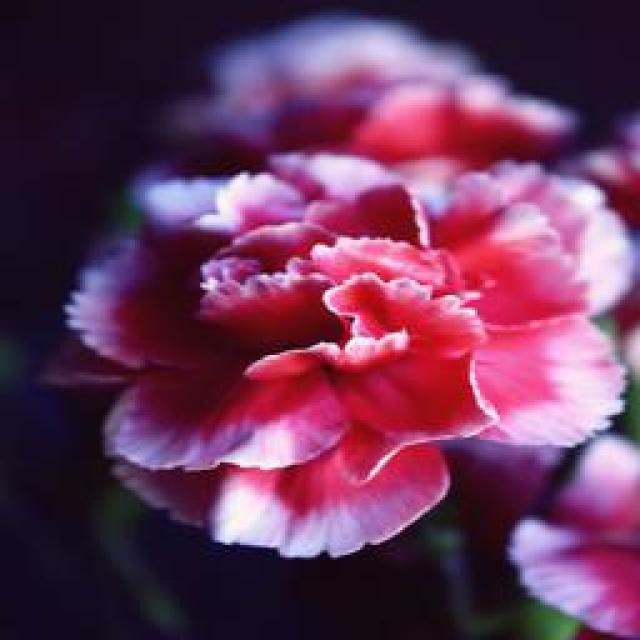carnation: (41, 143, 640, 552)
